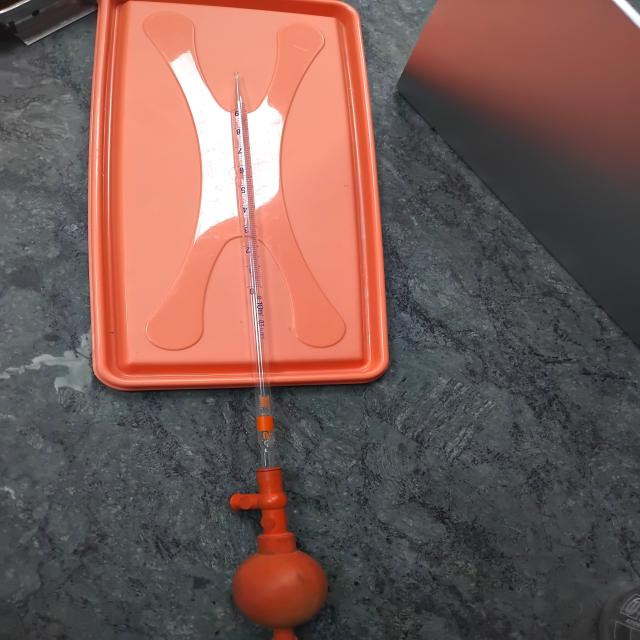Volumetric_Pipet: (190, 48, 376, 638)
